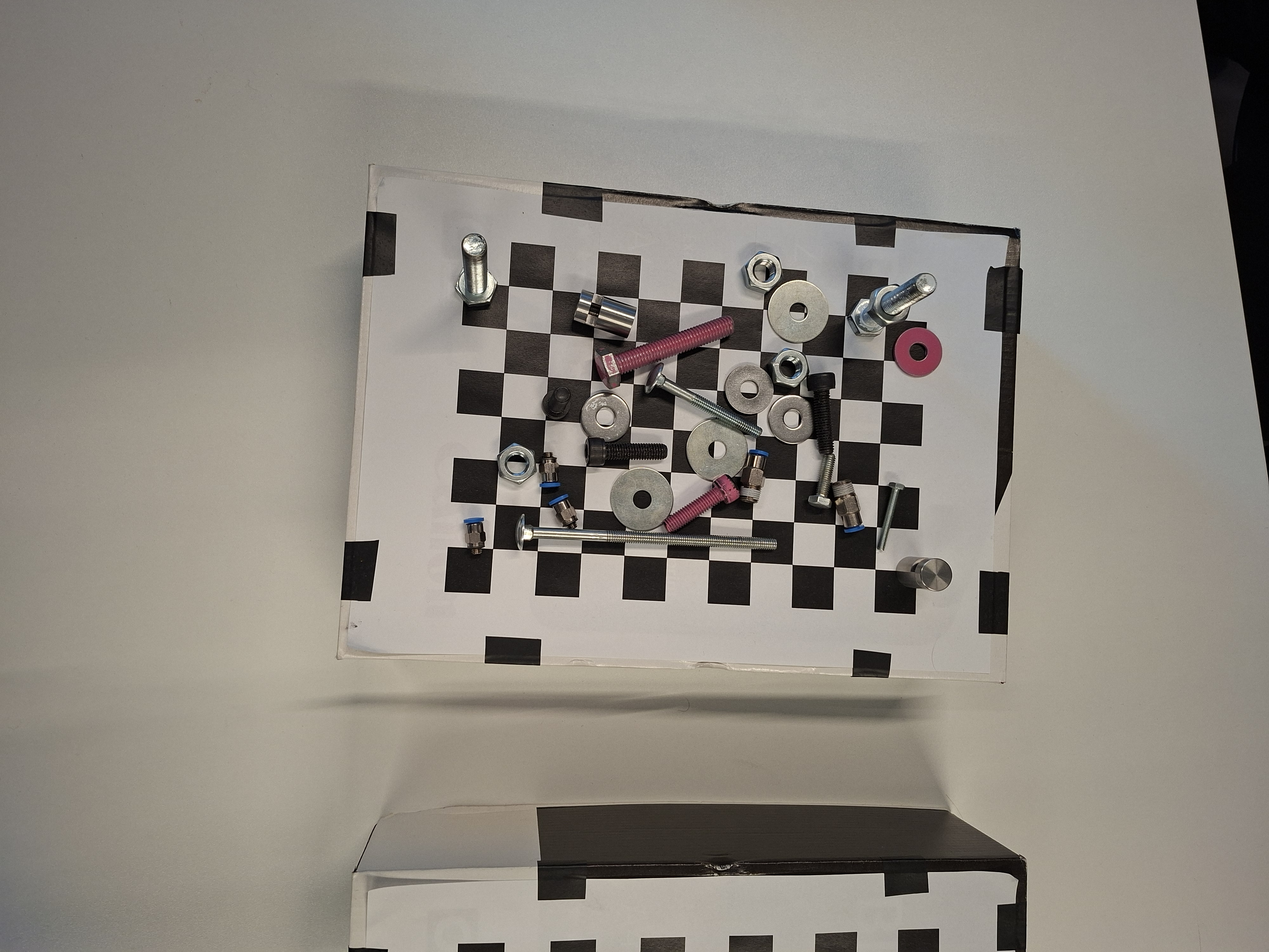allen_screw: (655, 467, 745, 541), (581, 433, 671, 472), (804, 367, 841, 459)
barrel_nut: (567, 284, 647, 346), (891, 551, 957, 598), (538, 377, 579, 428)
carriage_bolt: (514, 510, 783, 571), (637, 358, 771, 448)
hex_bolt: (586, 300, 745, 396), (839, 260, 950, 351), (439, 224, 507, 316), (871, 481, 909, 555), (803, 450, 843, 512)
hex_nut: (487, 434, 546, 493), (860, 277, 920, 333), (737, 242, 794, 300), (764, 341, 816, 395)
pneumatic_fitting: (733, 446, 774, 509), (827, 477, 869, 537), (546, 490, 585, 536), (460, 512, 493, 557), (534, 448, 564, 491)
washer: (754, 273, 835, 353), (601, 464, 676, 534), (681, 416, 751, 484), (891, 320, 951, 385), (763, 389, 824, 450), (721, 359, 781, 421), (575, 387, 636, 447)
